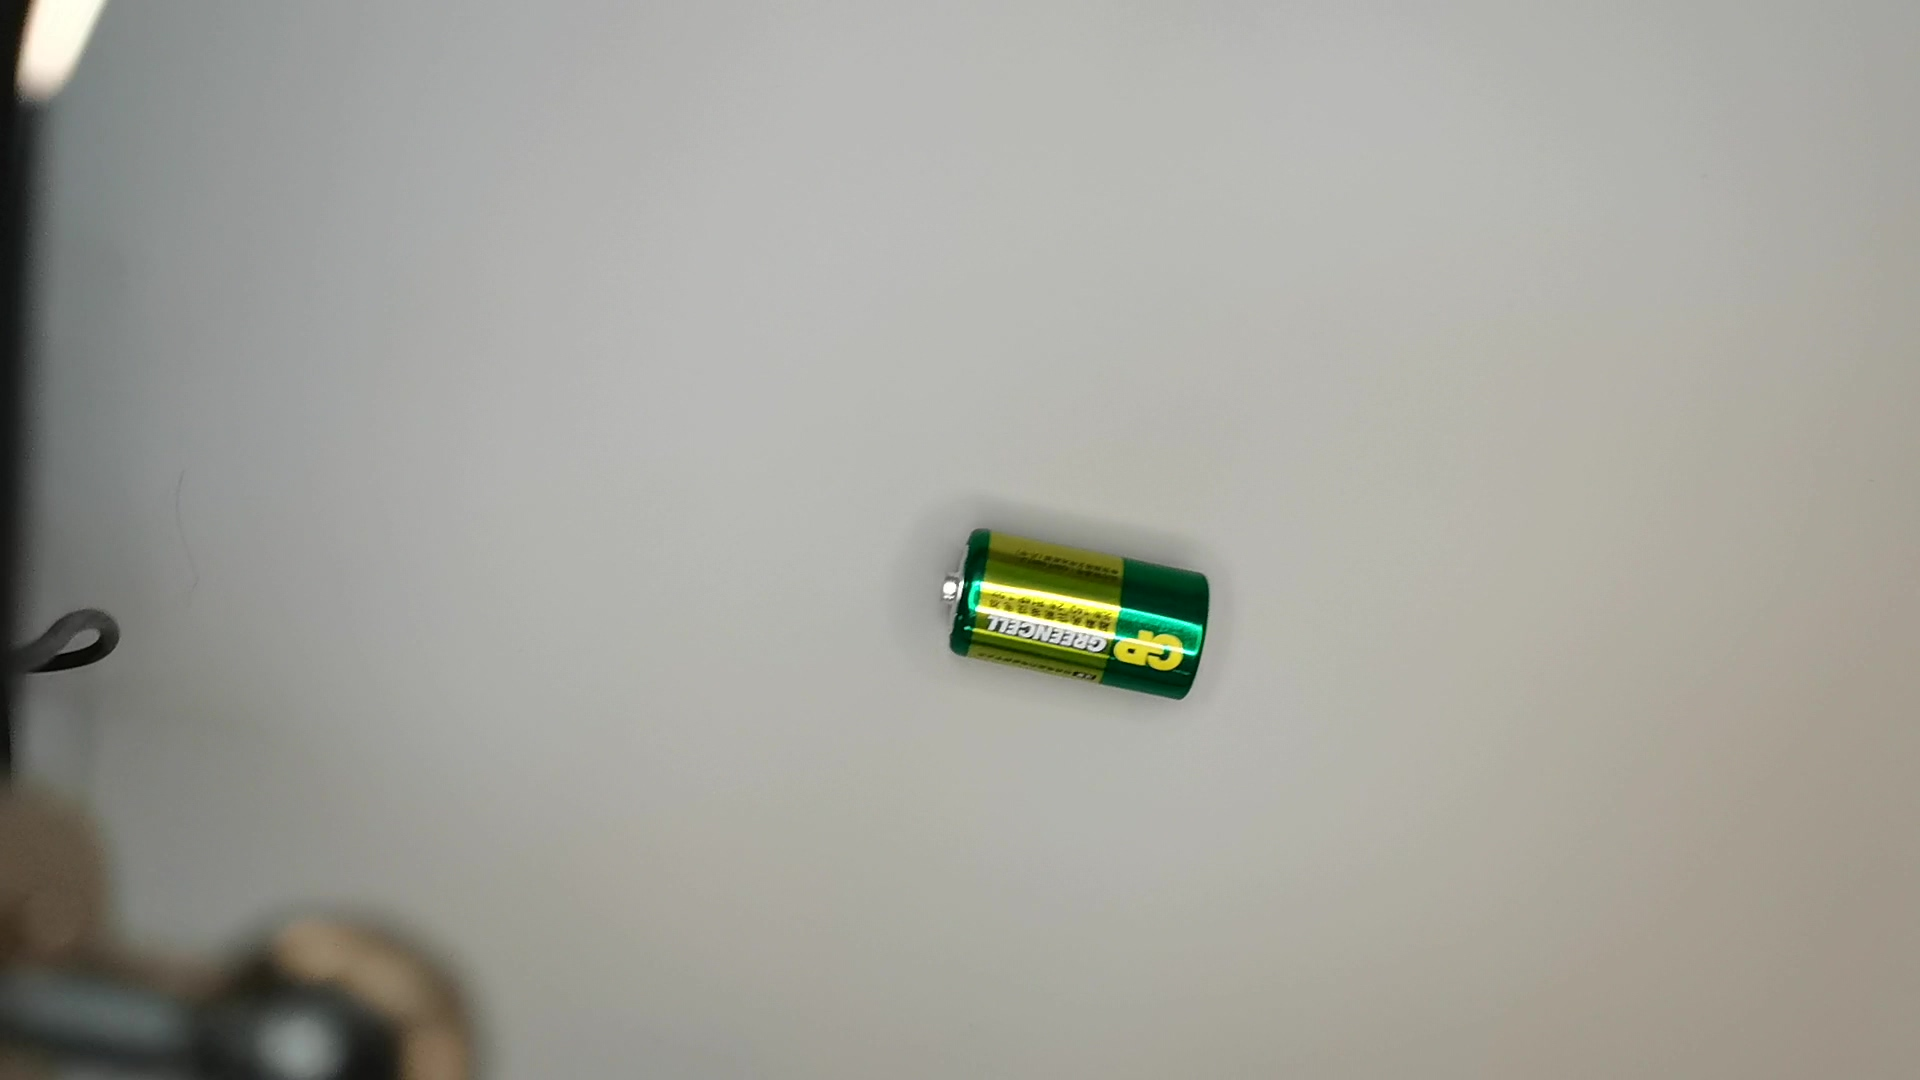battery: (936, 524, 1218, 708)
